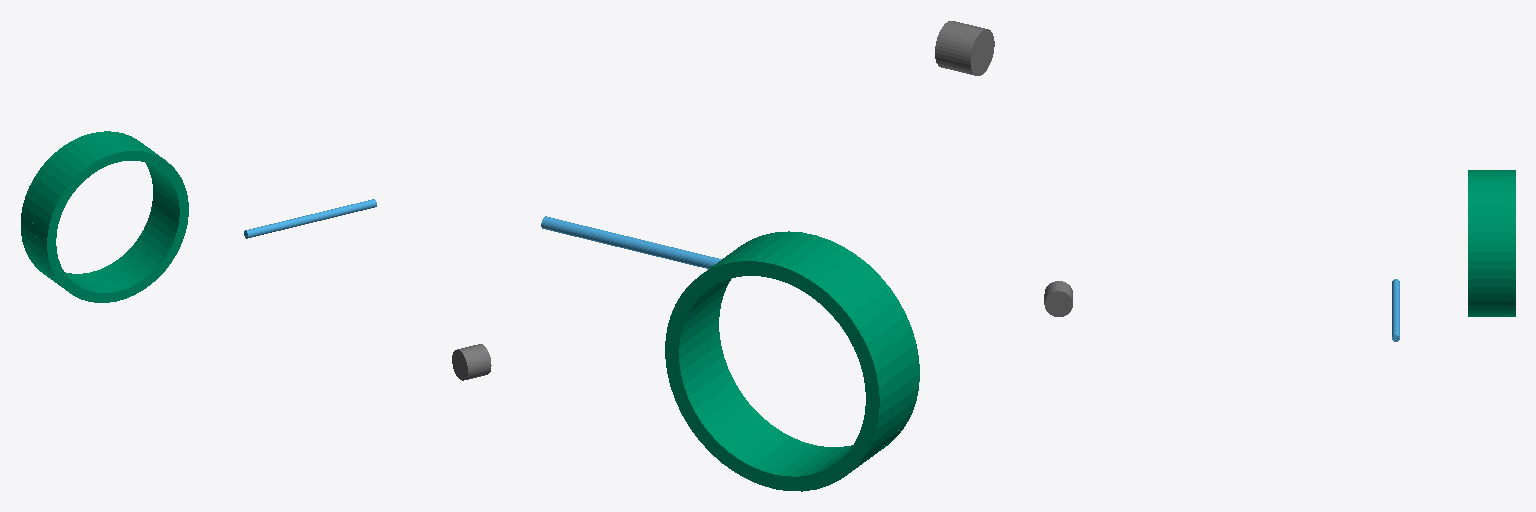
robot.urdf — satellite_with_arm:
  
<robot name="satellite_with_arm">
  <material name="metal_grey">
    <color rgba="0.501960784313725 0.501960784313725 0.501960784313725 1"/>
  </material>
    <material name="yellow">
    <color rgba="0.7 0.7 0 1"/>
  </material>
  <link name="satellite_with_arm">
    <inertial>
      <mass value="100" />
      <!-- center of mass (com) is defined w.r.t. link local coordinate system -->
      <!-- give a little y-offset to make the top precess -->
      <origin xyz="0 0 0" /> 
      <inertia  ixx=" 45.3333" ixy="0.0"  ixz="0.0"  iyy=" 45.3333"  iyz="0.0"  izz="24" />
    </inertial>
       <visual>
           <!--  <origin rpy="0 0 0" xyz="-0.14599 -0.63199 0"/>-->

      <origin xyz="0.14599 0.63199 0" rpy="1.5708 3.141592 3.141592" />
      <geometry>
        <mesh filename="meshes/visual/satellite_with_arm_VISUAL.obj"  />
      </geometry>
      
 
    </visual>

    <collision>
      <origin rpy="0 0 0" xyz="0 0 0"/>
    <geometry>
       <box size="1.2 2 1.2" />
     </geometry>
    </collision>
  </link>
  <link name="ring1">
 <inertial>
     <mass value="0" />
      <!-- center of mass (com) is defined w.r.t. link local coordinate system -->
      <!-- give a little y-offset to make the top precess -->
      <origin xyz="0 0 0" /> 
      <inertia  ixx="0.0" ixy="0.0"  ixz="0.0"  iyy="0.0"  iyz="0.0"  izz="0.0" />
    </inertial>
       <visual>
      <origin xyz="0 0 0" rpy="1.5708 0 1.5708"/> 
	<geometry>
       <cylinder radius="0.02" length="0.7"/>

     </geometry>
    </visual>    
    <collision>
      <origin xyz="0 0 0" rpy="1.5708 0 1.5708"/> 
	   <geometry>
       <cylinder radius="0.02" length="0.7"/>
            </geometry>
    </collision>    
    

</link>
<link name="base_ring">
 <inertial>
     <mass value="0" />
      <!-- center of mass (com) is defined w.r.t. link local coordinate system -->
      <!-- give a little y-offset to make the top precess -->
      <origin xyz="0 -0.512734 0" /> 
      <inertia  ixx="0.0" ixy="0.0"  ixz="0.0"  iyy="0.0"  iyz="0.0"  izz="0.0" />
    </inertial>
<visual> <origin xyz='0.36 0 0 ' rpy = '0 0 0'/> 	   <geometry><box size='0.05 0.25 0.05' /></geometry> </visual> 
<visual> <origin xyz='0.35704 0 0.046036 ' rpy = '0 -0.12823 0'/> 	   <geometry><box size='0.05 0.25 0.05' /></geometry> </visual> 
<visual> <origin xyz='0.34823 0 0.091316 ' rpy = '0 -0.25646 0'/> 	   <geometry><box size='0.05 0.25 0.05' /></geometry> </visual> 
<visual> <origin xyz='0.33369 0 0.1351 ' rpy = '0 -0.38468 0'/> 	   <geometry><box size='0.05 0.25 0.05' /></geometry> </visual> 
<visual> <origin xyz='0.31367 0 0.17666 ' rpy = '0 -0.51291 0'/> 	   <geometry><box size='0.05 0.25 0.05' /></geometry> </visual> 
<visual> <origin xyz='0.28851 0 0.21532 ' rpy = '0 -0.64114 0'/> 	   <geometry><box size='0.05 0.25 0.05' /></geometry> </visual> 
<visual> <origin xyz='0.25861 0 0.25045 ' rpy = '0 -0.76937 0'/> 	   <geometry><box size='0.05 0.25 0.05' /></geometry> </visual> 
<visual> <origin xyz='0.22446 0 0.28146 ' rpy = '0 -0.8976 0'/> 	   <geometry><box size='0.05 0.25 0.05' /></geometry> </visual> 
<visual> <origin xyz='0.18662 0 0.30785 ' rpy = '0 -1.0258 0'/> 	   <geometry><box size='0.05 0.25 0.05' /></geometry> </visual> 
<visual> <origin xyz='0.14572 0 0.32919 ' rpy = '0 -1.1541 0'/> 	   <geometry><box size='0.05 0.25 0.05' /></geometry> </visual> 
<visual> <origin xyz='0.10243 0 0.34512 ' rpy = '0 -1.2823 0'/> 	   <geometry><box size='0.05 0.25 0.05' /></geometry> </visual> 
<visual> <origin xyz='0.057456 0 0.35539 ' rpy = '0 -1.4105 0'/> 	   <geometry><box size='0.05 0.25 0.05' /></geometry> </visual> 
<visual> <origin xyz='0.011539 0 0.35982 ' rpy = '0 -1.5387 0'/> 	   <geometry><box size='0.05 0.25 0.05' /></geometry> </visual> 
<visual> <origin xyz='-0.034568 0 0.35834 ' rpy = '0 -1.667 0'/> 	   <geometry><box size='0.05 0.25 0.05' /></geometry> </visual> 
<visual> <origin xyz='-0.080108 0 0.35097 ' rpy = '0 -1.7952 0'/> 	   <geometry><box size='0.05 0.25 0.05' /></geometry> </visual> 
<visual> <origin xyz='-0.12433 0 0.33785 ' rpy = '0 -1.9234 0'/> 	   <geometry><box size='0.05 0.25 0.05' /></geometry> </visual> 
<visual> <origin xyz='-0.16651 0 0.31918 ' rpy = '0 -2.0517 0'/> 	   <geometry><box size='0.05 0.25 0.05' /></geometry> </visual> 
<visual> <origin xyz='-0.20596 0 0.29526 ' rpy = '0 -2.1799 0'/> 	   <geometry><box size='0.05 0.25 0.05' /></geometry> </visual> 
<visual> <origin xyz='-0.24203 0 0.2665 ' rpy = '0 -2.3081 0'/> 	   <geometry><box size='0.05 0.25 0.05' /></geometry> </visual> 
<visual> <origin xyz='-0.27412 0 0.23336 ' rpy = '0 -2.4363 0'/> 	   <geometry><box size='0.05 0.25 0.05' /></geometry> </visual> 
<visual> <origin xyz='-0.30171 0 0.19639 ' rpy = '0 -2.5646 0'/> 	   <geometry><box size='0.05 0.25 0.05' /></geometry> </visual> 
<visual> <origin xyz='-0.32435 0 0.1562 ' rpy = '0 -2.6928 0'/> 	   <geometry><box size='0.05 0.25 0.05' /></geometry> </visual> 
<visual> <origin xyz='-0.34166 0 0.11344 ' rpy = '0 -2.821 0'/> 	   <geometry><box size='0.05 0.25 0.05' /></geometry> </visual> 
<visual> <origin xyz='-0.35336 0 0.068817 ' rpy = '0 -2.9493 0'/> 	   <geometry><box size='0.05 0.25 0.05' /></geometry> </visual> 
<visual> <origin xyz='-0.35926 0 0.023065 ' rpy = '0 -3.0775 0'/> 	   <geometry><box size='0.05 0.25 0.05' /></geometry> </visual> 
<visual> <origin xyz='-0.35926 0 -0.023065 ' rpy = '0 -3.2057 0'/> 	   <geometry><box size='0.05 0.25 0.05' /></geometry> </visual> 
<visual> <origin xyz='-0.35336 0 -0.068817 ' rpy = '0 -3.3339 0'/> 	   <geometry><box size='0.05 0.25 0.05' /></geometry> </visual> 
<visual> <origin xyz='-0.34166 0 -0.11344 ' rpy = '0 -3.4622 0'/> 	   <geometry><box size='0.05 0.25 0.05' /></geometry> </visual> 
<visual> <origin xyz='-0.32435 0 -0.1562 ' rpy = '0 -3.5904 0'/> 	   <geometry><box size='0.05 0.25 0.05' /></geometry> </visual> 
<visual> <origin xyz='-0.30171 0 -0.19639 ' rpy = '0 -3.7186 0'/> 	   <geometry><box size='0.05 0.25 0.05' /></geometry> </visual> 
<visual> <origin xyz='-0.27412 0 -0.23336 ' rpy = '0 -3.8468 0'/> 	   <geometry><box size='0.05 0.25 0.05' /></geometry> </visual> 
<visual> <origin xyz='-0.24203 0 -0.2665 ' rpy = '0 -3.9751 0'/> 	   <geometry><box size='0.05 0.25 0.05' /></geometry> </visual> 
<visual> <origin xyz='-0.20596 0 -0.29526 ' rpy = '0 -4.1033 0'/> 	   <geometry><box size='0.05 0.25 0.05' /></geometry> </visual> 
<visual> <origin xyz='-0.16651 0 -0.31918 ' rpy = '0 -4.2315 0'/> 	   <geometry><box size='0.05 0.25 0.05' /></geometry> </visual> 
<visual> <origin xyz='-0.12433 0 -0.33785 ' rpy = '0 -4.3598 0'/> 	   <geometry><box size='0.05 0.25 0.05' /></geometry> </visual> 
<visual> <origin xyz='-0.080108 0 -0.35097 ' rpy = '0 -4.488 0'/> 	   <geometry><box size='0.05 0.25 0.05' /></geometry> </visual> 
<visual> <origin xyz='-0.034568 0 -0.35834 ' rpy = '0 -4.6162 0'/> 	   <geometry><box size='0.05 0.25 0.05' /></geometry> </visual> 
<visual> <origin xyz='0.011539 0 -0.35982 ' rpy = '0 -4.7444 0'/> 	   <geometry><box size='0.05 0.25 0.05' /></geometry> </visual> 
<visual> <origin xyz='0.057456 0 -0.35539 ' rpy = '0 -4.8727 0'/> 	   <geometry><box size='0.05 0.25 0.05' /></geometry> </visual> 
<visual> <origin xyz='0.10243 0 -0.34512 ' rpy = '0 -5.0009 0'/> 	   <geometry><box size='0.05 0.25 0.05' /></geometry> </visual> 
<visual> <origin xyz='0.14572 0 -0.32919 ' rpy = '0 -5.1291 0'/> 	   <geometry><box size='0.05 0.25 0.05' /></geometry> </visual> 
<visual> <origin xyz='0.18662 0 -0.30785 ' rpy = '0 -5.2574 0'/> 	   <geometry><box size='0.05 0.25 0.05' /></geometry> </visual> 
<visual> <origin xyz='0.22446 0 -0.28146 ' rpy = '0 -5.3856 0'/> 	   <geometry><box size='0.05 0.25 0.05' /></geometry> </visual> 
<visual> <origin xyz='0.25861 0 -0.25045 ' rpy = '0 -5.5138 0'/> 	   <geometry><box size='0.05 0.25 0.05' /></geometry> </visual> 
<visual> <origin xyz='0.28851 0 -0.21532 ' rpy = '0 -5.642 0'/> 	   <geometry><box size='0.05 0.25 0.05' /></geometry> </visual> 
<visual> <origin xyz='0.31367 0 -0.17666 ' rpy = '0 -5.7703 0'/> 	   <geometry><box size='0.05 0.25 0.05' /></geometry> </visual> 
<visual> <origin xyz='0.33369 0 -0.1351 ' rpy = '0 -5.8985 0'/> 	   <geometry><box size='0.05 0.25 0.05' /></geometry> </visual> 
<visual> <origin xyz='0.34823 0 -0.091316 ' rpy = '0 -6.0267 0'/> 	   <geometry><box size='0.05 0.25 0.05' /></geometry> </visual> 
<visual> <origin xyz='0.35704 0 -0.046036 ' rpy = '0 -6.155 0'/> 	   <geometry><box size='0.05 0.25 0.05' /></geometry> </visual> 
<visual> <origin xyz='0.36 0 -8.8175e-17 ' rpy = '0 -6.2832 0'/> 	   <geometry><box size='0.05 0.25 0.05' /></geometry> </visual> 
<collision> <origin xyz='0.36 0 0 ' rpy = '0 0 0'/> 	   <geometry><box size='0.05 0.25 0.05' /></geometry> </collision> 
<collision> <origin xyz='0.35704 0 0.046036 ' rpy = '0 -0.12823 0'/> 	   <geometry><box size='0.05 0.25 0.05' /></geometry> </collision> 
<collision> <origin xyz='0.34823 0 0.091316 ' rpy = '0 -0.25646 0'/> 	   <geometry><box size='0.05 0.25 0.05' /></geometry> </collision> 
<collision> <origin xyz='0.33369 0 0.1351 ' rpy = '0 -0.38468 0'/> 	   <geometry><box size='0.05 0.25 0.05' /></geometry> </collision> 
<collision> <origin xyz='0.31367 0 0.17666 ' rpy = '0 -0.51291 0'/> 	   <geometry><box size='0.05 0.25 0.05' /></geometry> </collision> 
<collision> <origin xyz='0.28851 0 0.21532 ' rpy = '0 -0.64114 0'/> 	   <geometry><box size='0.05 0.25 0.05' /></geometry> </collision> 
<collision> <origin xyz='0.25861 0 0.25045 ' rpy = '0 -0.76937 0'/> 	   <geometry><box size='0.05 0.25 0.05' /></geometry> </collision> 
<collision> <origin xyz='0.22446 0 0.28146 ' rpy = '0 -0.8976 0'/> 	   <geometry><box size='0.05 0.25 0.05' /></geometry> </collision> 
<collision> <origin xyz='0.18662 0 0.30785 ' rpy = '0 -1.0258 0'/> 	   <geometry><box size='0.05 0.25 0.05' /></geometry> </collision> 
<collision> <origin xyz='0.14572 0 0.32919 ' rpy = '0 -1.1541 0'/> 	   <geometry><box size='0.05 0.25 0.05' /></geometry> </collision> 
<collision> <origin xyz='0.10243 0 0.34512 ' rpy = '0 -1.2823 0'/> 	   <geometry><box size='0.05 0.25 0.05' /></geometry> </collision> 
<collision> <origin xyz='0.057456 0 0.35539 ' rpy = '0 -1.4105 0'/> 	   <geometry><box size='0.05 0.25 0.05' /></geometry> </collision> 
<collision> <origin xyz='0.011539 0 0.35982 ' rpy = '0 -1.5387 0'/> 	   <geometry><box size='0.05 0.25 0.05' /></geometry> </collision> 
<collision> <origin xyz='-0.034568 0 0.35834 ' rpy = '0 -1.667 0'/> 	   <geometry><box size='0.05 0.25 0.05' /></geometry> </collision> 
<collision> <origin xyz='-0.080108 0 0.35097 ' rpy = '0 -1.7952 0'/> 	   <geometry><box size='0.05 0.25 0.05' /></geometry> </collision> 
<collision> <origin xyz='-0.12433 0 0.33785 ' rpy = '0 -1.9234 0'/> 	   <geometry><box size='0.05 0.25 0.05' /></geometry> </collision> 
<collision> <origin xyz='-0.16651 0 0.31918 ' rpy = '0 -2.0517 0'/> 	   <geometry><box size='0.05 0.25 0.05' /></geometry> </collision> 
<collision> <origin xyz='-0.20596 0 0.29526 ' rpy = '0 -2.1799 0'/> 	   <geometry><box size='0.05 0.25 0.05' /></geometry> </collision> 
<collision> <origin xyz='-0.24203 0 0.2665 ' rpy = '0 -2.3081 0'/> 	   <geometry><box size='0.05 0.25 0.05' /></geometry> </collision> 
<collision> <origin xyz='-0.27412 0 0.23336 ' rpy = '0 -2.4363 0'/> 	   <geometry><box size='0.05 0.25 0.05' /></geometry> </collision> 
<collision> <origin xyz='-0.30171 0 0.19639 ' rpy = '0 -2.5646 0'/> 	   <geometry><box size='0.05 0.25 0.05' /></geometry> </collision> 
<collision> <origin xyz='-0.32435 0 0.1562 ' rpy = '0 -2.6928 0'/> 	   <geometry><box size='0.05 0.25 0.05' /></geometry> </collision> 
<collision> <origin xyz='-0.34166 0 0.11344 ' rpy = '0 -2.821 0'/> 	   <geometry><box size='0.05 0.25 0.05' /></geometry> </collision> 
<collision> <origin xyz='-0.35336 0 0.068817 ' rpy = '0 -2.9493 0'/> 	   <geometry><box size='0.05 0.25 0.05' /></geometry> </collision> 
<collision> <origin xyz='-0.35926 0 0.023065 ' rpy = '0 -3.0775 0'/> 	   <geometry><box size='0.05 0.25 0.05' /></geometry> </collision> 
<collision> <origin xyz='-0.35926 0 -0.023065 ' rpy = '0 -3.2057 0'/> 	   <geometry><box size='0.05 0.25 0.05' /></geometry> </collision> 
<collision> <origin xyz='-0.35336 0 -0.068817 ' rpy = '0 -3.3339 0'/> 	   <geometry><box size='0.05 0.25 0.05' /></geometry> </collision> 
<collision> <origin xyz='-0.34166 0 -0.11344 ' rpy = '0 -3.4622 0'/> 	   <geometry><box size='0.05 0.25 0.05' /></geometry> </collision> 
<collision> <origin xyz='-0.32435 0 -0.1562 ' rpy = '0 -3.5904 0'/> 	   <geometry><box size='0.05 0.25 0.05' /></geometry> </collision> 
<collision> <origin xyz='-0.30171 0 -0.19639 ' rpy = '0 -3.7186 0'/> 	   <geometry><box size='0.05 0.25 0.05' /></geometry> </collision> 
<collision> <origin xyz='-0.27412 0 -0.23336 ' rpy = '0 -3.8468 0'/> 	   <geometry><box size='0.05 0.25 0.05' /></geometry> </collision> 
<collision> <origin xyz='-0.24203 0 -0.2665 ' rpy = '0 -3.9751 0'/> 	   <geometry><box size='0.05 0.25 0.05' /></geometry> </collision> 
<collision> <origin xyz='-0.20596 0 -0.29526 ' rpy = '0 -4.1033 0'/> 	   <geometry><box size='0.05 0.25 0.05' /></geometry> </collision> 
<collision> <origin xyz='-0.16651 0 -0.31918 ' rpy = '0 -4.2315 0'/> 	   <geometry><box size='0.05 0.25 0.05' /></geometry> </collision> 
<collision> <origin xyz='-0.12433 0 -0.33785 ' rpy = '0 -4.3598 0'/> 	   <geometry><box size='0.05 0.25 0.05' /></geometry> </collision> 
<collision> <origin xyz='-0.080108 0 -0.35097 ' rpy = '0 -4.488 0'/> 	   <geometry><box size='0.05 0.25 0.05' /></geometry> </collision> 
<collision> <origin xyz='-0.034568 0 -0.35834 ' rpy = '0 -4.6162 0'/> 	   <geometry><box size='0.05 0.25 0.05' /></geometry> </collision> 
<collision> <origin xyz='0.011539 0 -0.35982 ' rpy = '0 -4.7444 0'/> 	   <geometry><box size='0.05 0.25 0.05' /></geometry> </collision> 
<collision> <origin xyz='0.057456 0 -0.35539 ' rpy = '0 -4.8727 0'/> 	   <geometry><box size='0.05 0.25 0.05' /></geometry> </collision> 
<collision> <origin xyz='0.10243 0 -0.34512 ' rpy = '0 -5.0009 0'/> 	   <geometry><box size='0.05 0.25 0.05' /></geometry> </collision> 
<collision> <origin xyz='0.14572 0 -0.32919 ' rpy = '0 -5.1291 0'/> 	   <geometry><box size='0.05 0.25 0.05' /></geometry> </collision> 
<collision> <origin xyz='0.18662 0 -0.30785 ' rpy = '0 -5.2574 0'/> 	   <geometry><box size='0.05 0.25 0.05' /></geometry> </collision> 
<collision> <origin xyz='0.22446 0 -0.28146 ' rpy = '0 -5.3856 0'/> 	   <geometry><box size='0.05 0.25 0.05' /></geometry> </collision> 
<collision> <origin xyz='0.25861 0 -0.25045 ' rpy = '0 -5.5138 0'/> 	   <geometry><box size='0.05 0.25 0.05' /></geometry> </collision> 
<collision> <origin xyz='0.28851 0 -0.21532 ' rpy = '0 -5.642 0'/> 	   <geometry><box size='0.05 0.25 0.05' /></geometry> </collision> 
<collision> <origin xyz='0.31367 0 -0.17666 ' rpy = '0 -5.7703 0'/> 	   <geometry><box size='0.05 0.25 0.05' /></geometry> </collision> 
<collision> <origin xyz='0.33369 0 -0.1351 ' rpy = '0 -5.8985 0'/> 	   <geometry><box size='0.05 0.25 0.05' /></geometry> </collision> 
<collision> <origin xyz='0.34823 0 -0.091316 ' rpy = '0 -6.0267 0'/> 	   <geometry><box size='0.05 0.25 0.05' /></geometry> </collision> 
<collision> <origin xyz='0.35704 0 -0.046036 ' rpy = '0 -6.155 0'/> 	   <geometry><box size='0.05 0.25 0.05' /></geometry> </collision> 
<collision> <origin xyz='0.36 0 -8.8175e-17 ' rpy = '0 -6.2832 0'/> 	   <geometry><box size='0.05 0.25 0.05' /></geometry> </collision>  
</link>

  <link name="base_urdf">
    <inertial>
      <origin xyz="0 0 0" rpy="0 0 0" />
      <mass value="4.48218" />
      <inertia
        ixx=" 0.04755097476"
        ixy=" 0.00000000000"
        ixz=" 0.00000000000"
        iyy=" 0.04755157166"
        iyz="-0.00000000081"
        izz=" 0.00981063776" />
    </inertial>
    <!--<inertial>
      <origin xyz="0 0 0" rpy="0 0 0" />
      <mass value="0" />
      <inertia
        ixx=" 0.00"
        ixy=" 0.00000000000"
        ixz=" 0.00000000000"
        iyy=" 0.00"
        iyz="0"
        izz=" 0" />
    </inertial>-->
    <visual>
      <origin xyz="0 0 0" rpy="0 0 0" />
      <geometry>
        <mesh filename="meshes/base.stl" />
      </geometry>
      <material name="metal_grey"/>
    </visual>

    <collision>
      <origin rpy="0 0 0" xyz="0 0 0"/>
      <geometry>
        <mesh filename="meshes/base.stl"/>
      </geometry>
    </collision>
  </link>




  
  <joint name="ring1_fixed" type="fixed">
    <origin xyz="0.82924 0.63199 0" rpy="0 0 0" />
    <parent link="satellite_with_arm" />
    <child link="ring1" />
  </joint>
      <joint name="base_ring_fixed" type="fixed">
    <origin xyz="0 1.13199  0" rpy="0 0 0" />
    <parent link="satellite_with_arm" />
    <child link="base_ring" />
  </joint>
    <joint name="satellite_with_arm_fixed" type="fixed">
    <origin xyz="0.6245 -1.13181 0" rpy="0 1.5708 0" />
    <parent link="satellite_with_arm" />
    <child link="base_urdf" />
  </joint>
  
 

  <link name="body_com">
    <inertial>
      <mass value="0.0"/>
      <origin rpy="0 0 0" xyz="0.0 0.0 0.0"/>
      <inertia ixx="0.0" ixy="0.0" ixz="0.0" iyy="0.0" iyz="0.0" izz="0.0"/>
    </inertial>

    <collision>
      <geometry>
        <box size="0.00 0.00 0.00"/>
      </geometry>
      <origin rpy="0 0 0" xyz="0.00 0 0"/>
    </collision>
  </link>
  <joint name="body_com_fixed" type="fixed">
    <origin xyz="0 0 0" rpy="0 0 0"/>
    <parent link="satellite_with_arm"/>
    <child link="body_com"/>
  </joint>    
</robot>

--- Facts derived from the render (not from the file) ---
The picture shows the robot from 3 angles, left to right: view 1: azimuth 30°, elevation 25°; view 2: azimuth 150°, elevation 25°; view 3: azimuth 270°, elevation 25°; orthographic projection.
Robot: satellite_with_arm — 5 links, 4 joints (4 fixed); root link satellite_with_arm; default pose: all joints at 0.
Visible links, largest first — view 1: base_ring, ring1, base_urdf; view 2: base_ring, base_urdf, ring1; view 3: base_ring, base_urdf.
Boxes of the visible links, x1=… form: base_ring: x1=21, y1=131, x2=188, y2=302; ring1: x1=244, y1=199, x2=376, y2=238; base_urdf: x1=452, y1=344, x2=491, y2=380; base_ring: x1=665, y1=231, x2=919, y2=491; base_urdf: x1=935, y1=21, x2=994, y2=75; ring1: x1=541, y1=216, x2=721, y2=268; base_ring: x1=1468, y1=170, x2=1515, y2=316; base_urdf: x1=1044, y1=281, x2=1072, y2=316.
Bounding box of the posed robot: 1.57 × 2.46 × 0.7713 m (x, y, z).
1 mesh visuals loaded from 2 distinct referenced files (1 binary STL); not drawn: 1 (reference not matched to a file when rendering).